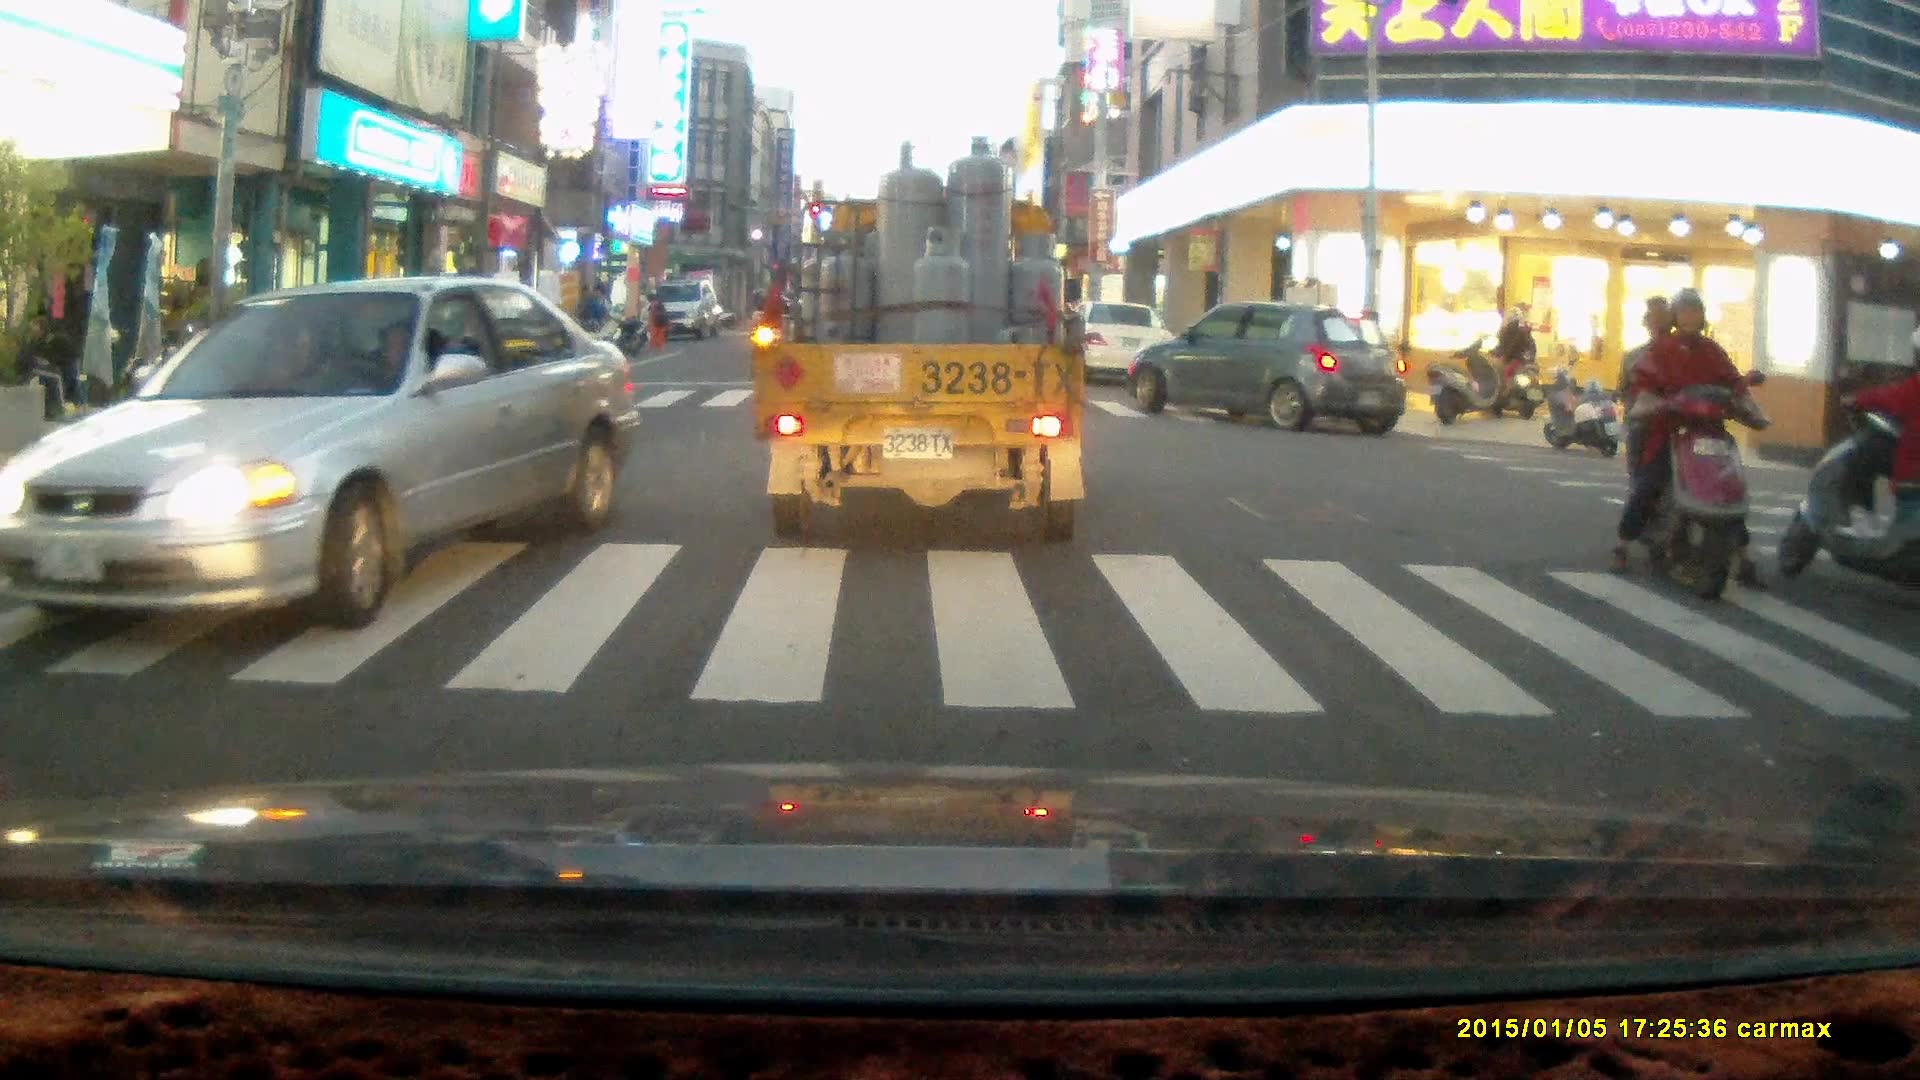pedestrian: (579, 282, 607, 346), (641, 291, 668, 351)
rider: (1600, 290, 1762, 606), (1776, 325, 1920, 609), (1481, 305, 1545, 421)
vehicle: (3, 277, 637, 628), (751, 133, 1090, 551), (1131, 302, 1418, 437), (1061, 302, 1182, 386), (640, 279, 719, 342)
